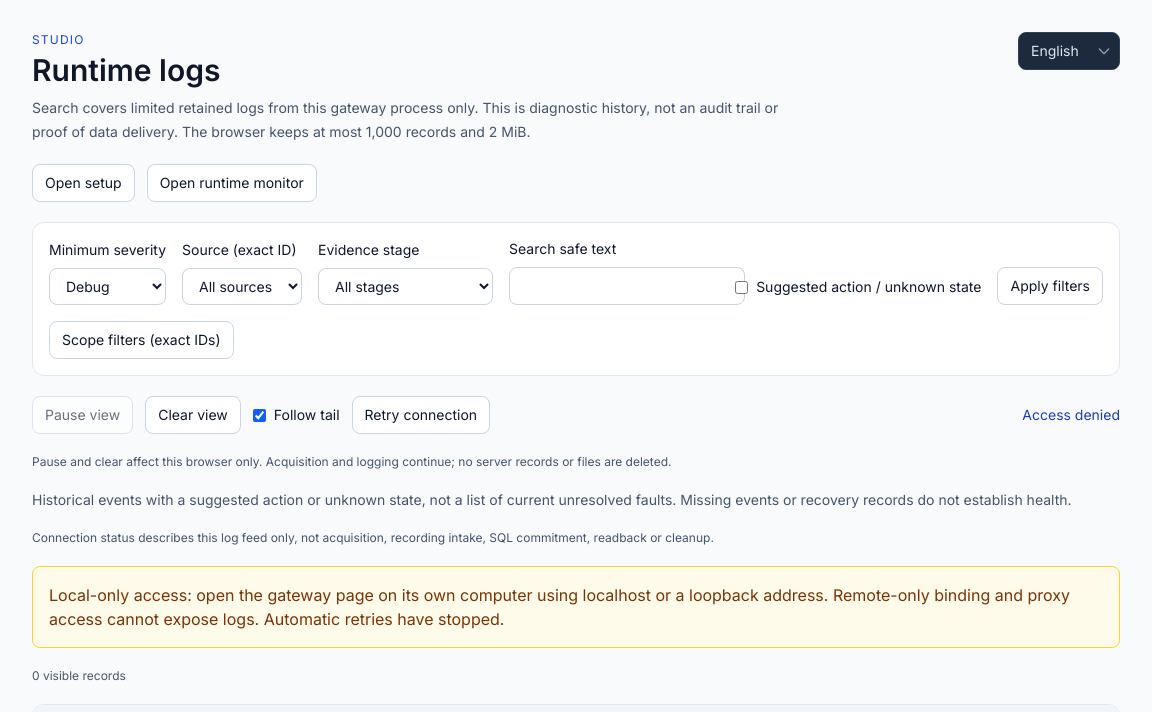
closed legacy and domain compatibility on the actual runtime log page › stops automatic retry after snapshot 403 and only retries on explicit request
expect the message "Access denied" is shown: met, box x1=1022 y1=405 x2=1120 y2=425
expect the 2nd message shows "Automatic retries have stopped": met, box x1=49 y1=585 x2=1070 y2=629
Click the button "Retry connection" at coordinates (421, 415), box x1=352 y1=396 x2=490 y2=434
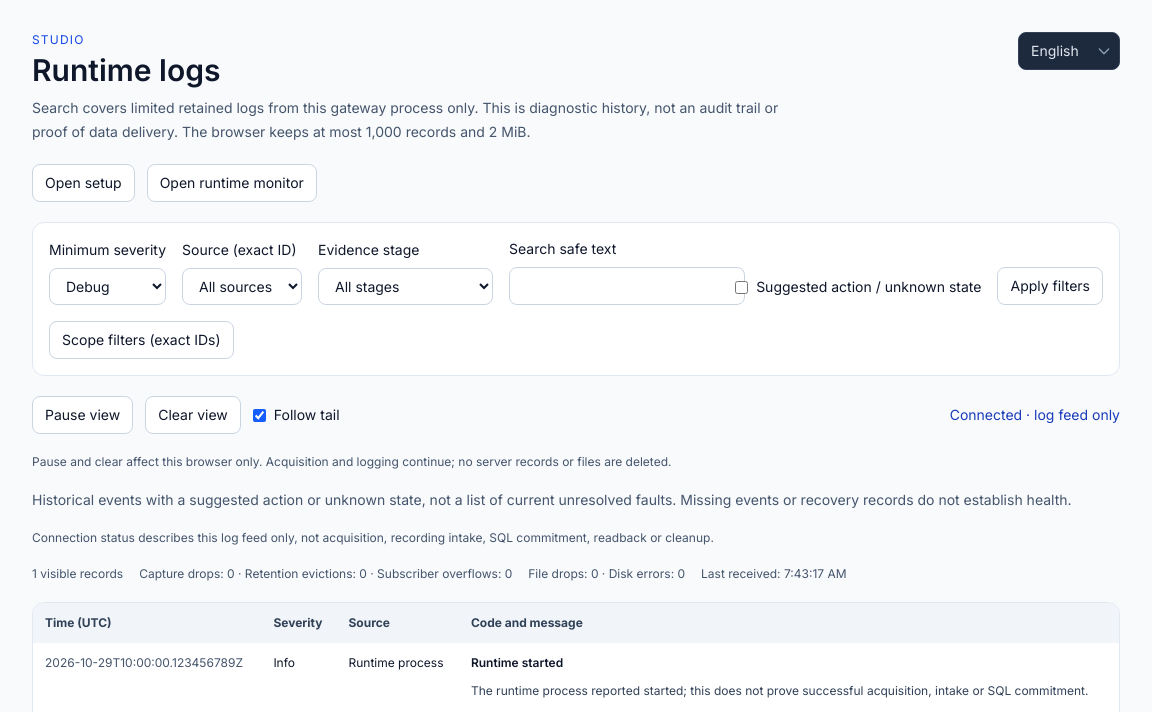
expect the message shows "Connected": met, box x1=950 y1=406 x2=1120 y2=423
